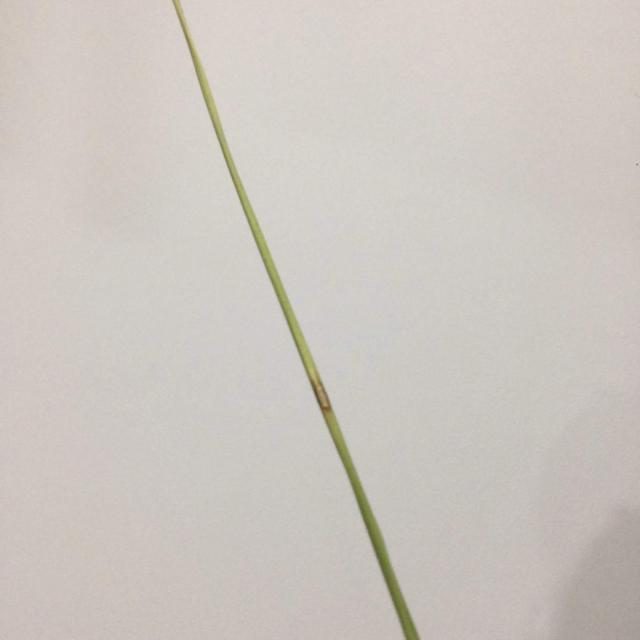Blast: (316, 381, 330, 412)
